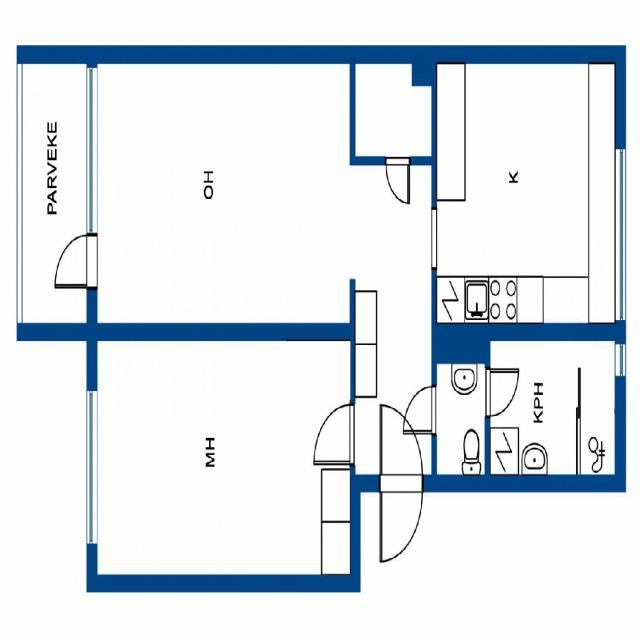door: (381, 474, 422, 560), (381, 408, 422, 492), (314, 404, 355, 464), (55, 234, 97, 287), (403, 386, 437, 432), (485, 369, 518, 415), (386, 156, 409, 203)
